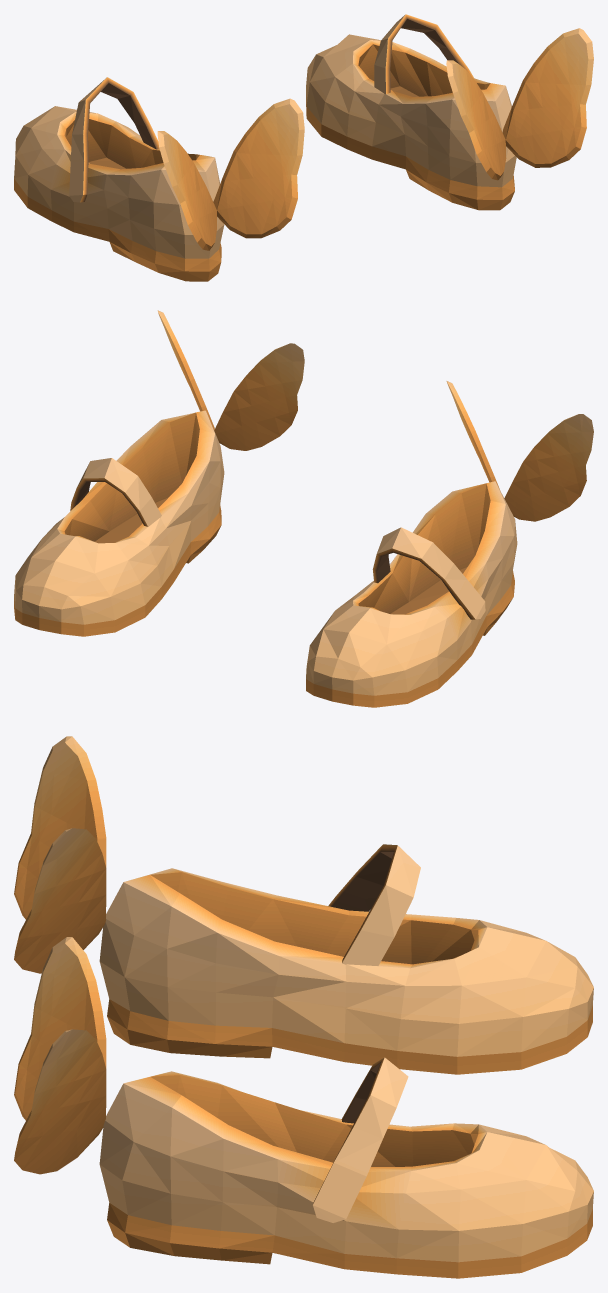
File: CharSkyKid_Feet_AnnivButterfly.glb
3 views of the same model, one above another, from view 1: azimuth 30°, elevation 25°; view 2: azimuth 150°, elevation 25°; view 3: azimuth 270°, elevation 25° (orthographic). The views are drawn at different scales.
Visible parts, largest first — view 1: CharSkyKid_Feet_AnnivButterfly; view 2: CharSkyKid_Feet_AnnivButterfly; view 3: CharSkyKid_Feet_AnnivButterfly.
Boxes of the visible parts, box(x1,y1,x2,y2) form: CharSkyKid_Feet_AnnivButterfly: box(14, 14, 593, 281); CharSkyKid_Feet_AnnivButterfly: box(14, 310, 593, 707); CharSkyKid_Feet_AnnivButterfly: box(14, 736, 593, 1278).
Size of the model in its own units: 2.69 by 1.06 by 2.19.
1 material, 1 textured.
